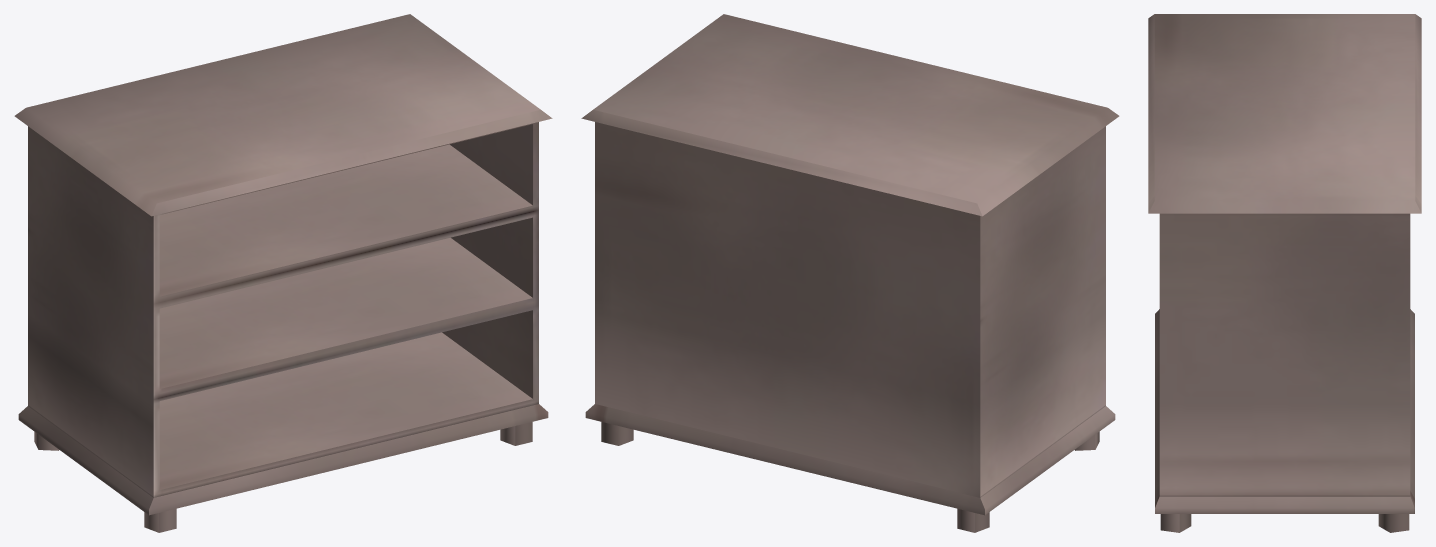
The model's file is Chest_drawers_02-col.glb.
The picture shows the model from 3 angles, left to right: view 1: azimuth 30°, elevation 25°; view 2: azimuth 150°, elevation 25°; view 3: azimuth 270°, elevation 25°; orthographic projection.
Parts seen in each view (by area): view 1: Chest_drawers_02-col; view 2: Chest_drawers_02-col; view 3: Chest_drawers_02-col.
Part boxes in pixels (x1=…): Chest_drawers_02-col: x1=14, y1=14, x2=552, y2=532; Chest_drawers_02-col: x1=581, y1=14, x2=1119, y2=532; Chest_drawers_02-col: x1=1148, y1=14, x2=1421, y2=532.
Bounding box in the file's own units: 2.71 × 2.15 × 1.6.
Materials: 1 (1 with a texture image).
